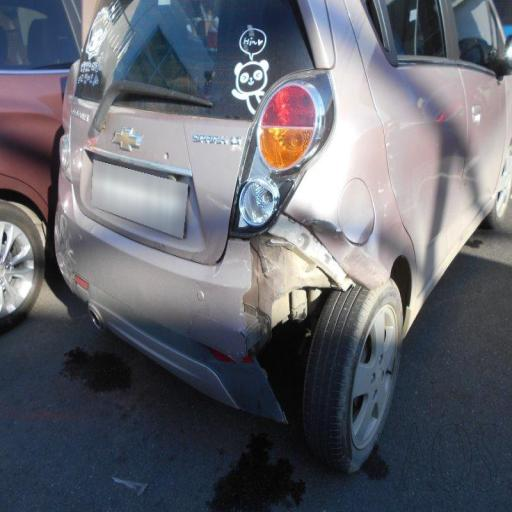broken: (223, 162, 390, 440)
scratch: (55, 66, 111, 333)
